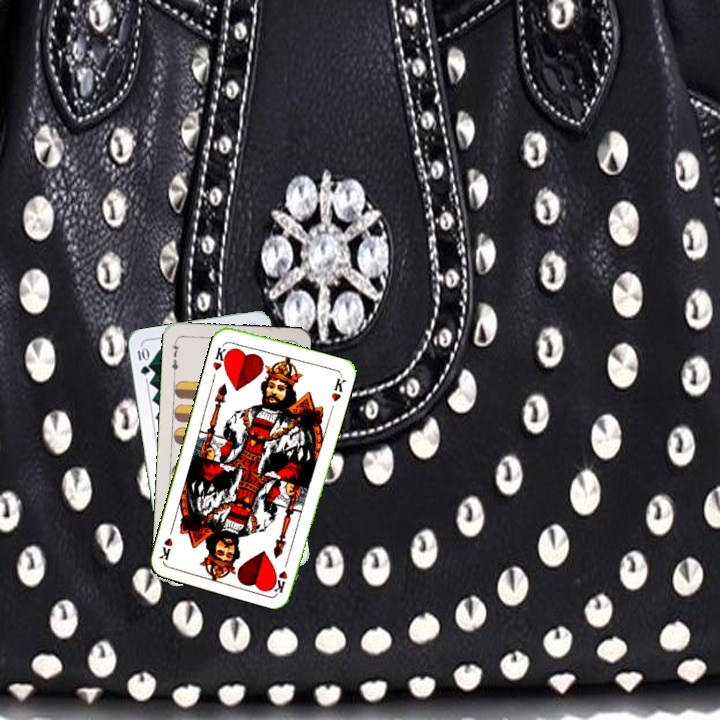E7: (168, 337, 182, 377)
G10: (133, 343, 152, 378)
HK: (270, 554, 291, 594), (209, 343, 233, 373)
